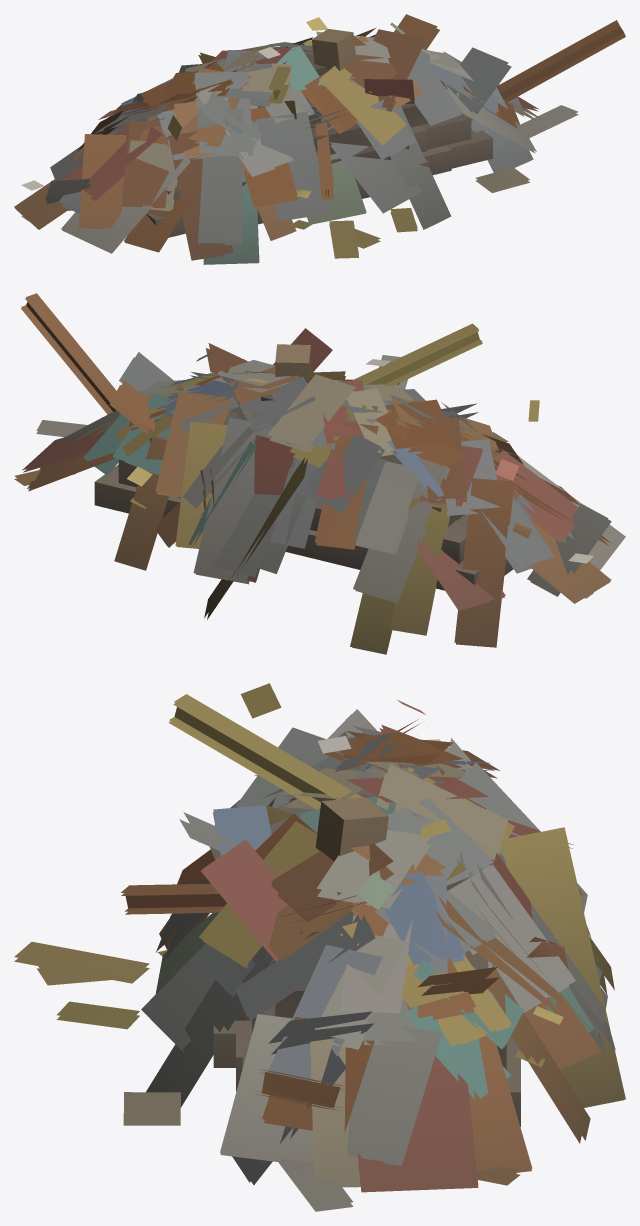
The model's file is heap_c.lod.glb.
3 views of the same model, one above another, from view 1: azimuth 30°, elevation 25°; view 2: azimuth 150°, elevation 25°; view 3: azimuth 270°, elevation 25° (orthographic). The views are drawn at different scales.
Visible parts, largest first — view 1: heap_c; view 2: heap_c; view 3: heap_c.
Boxes of the visible parts, x1,y1,x2,y2 form: heap_c: [14, 14, 625, 264]; heap_c: [14, 293, 625, 654]; heap_c: [14, 683, 625, 1211].
Bounding box in the file's own units: 16.83 × 5.49 × 9.63.
